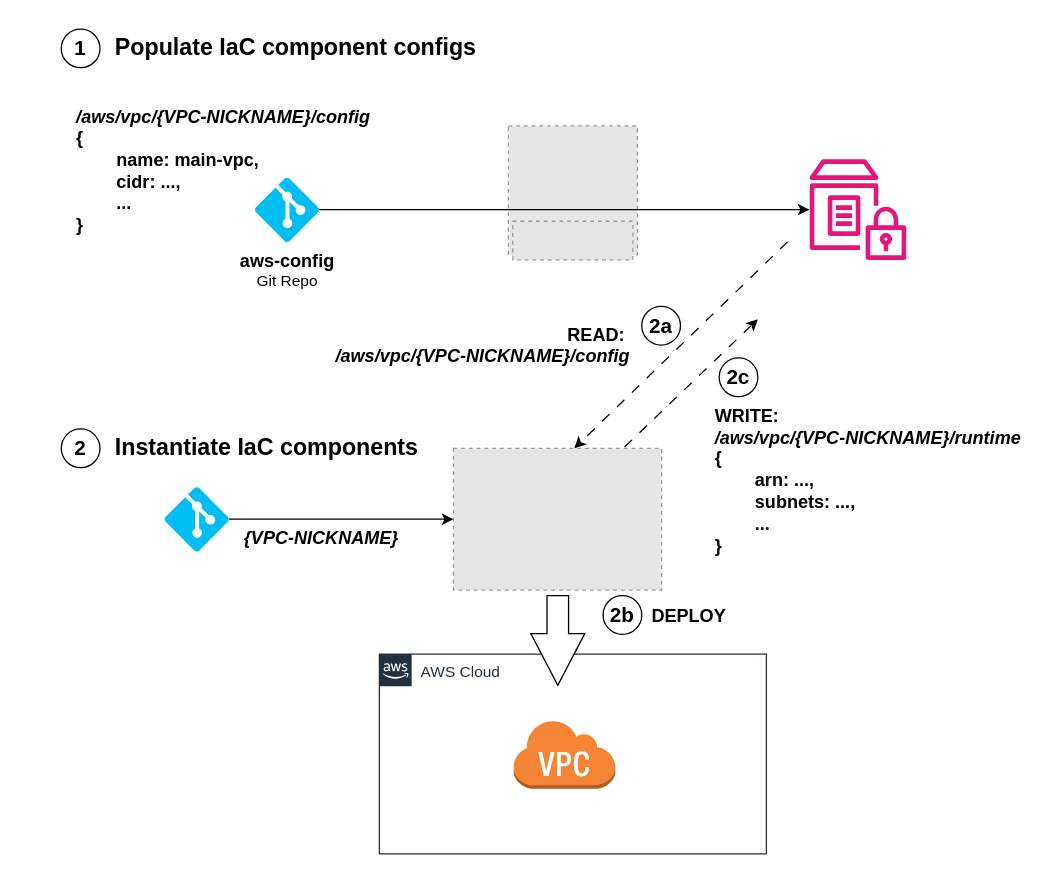
Some shapes in this 1062 by 876 pixel diagram are drawn without their labels. Grey dashed boxes stand in for pictures. Each missing label, with the centre of its shape:
"AWS Parameter Store" belongs at (857,209).
"aws-iac Git Repo" belongs at (196,518).
